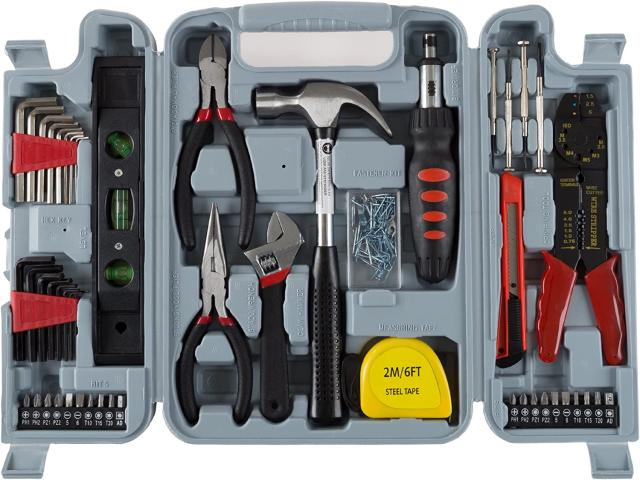Adjustable spanner: (245, 211, 304, 422)
Cutting pliers: (174, 34, 256, 250)
Hammer: (255, 82, 391, 424)
Needle-nose pliers: (176, 204, 252, 425)
Screwdriver: (409, 32, 458, 283)
Tape measure: (360, 338, 455, 419)
Utility knife: (496, 171, 526, 368)
